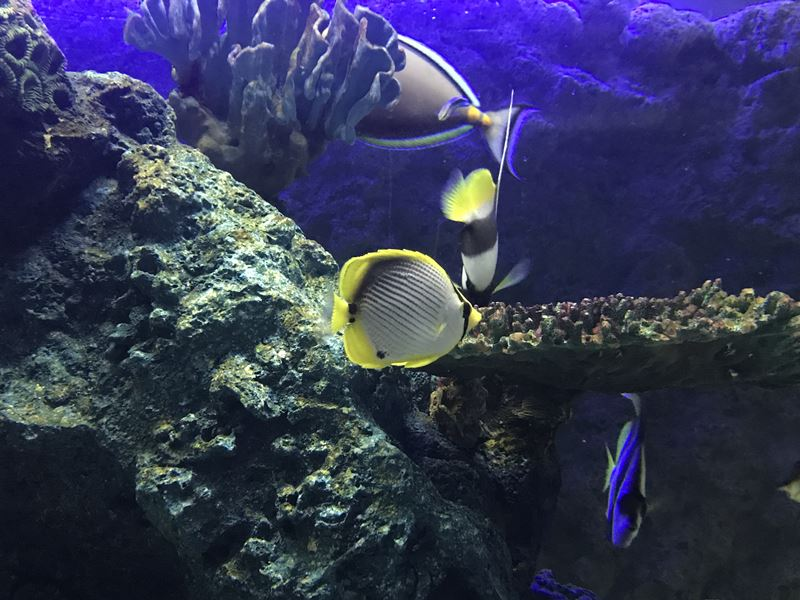Black-backed butterflyfish: (310, 241, 490, 381)
